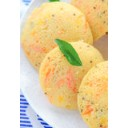idly: (39, 42, 105, 109), (26, 1, 91, 69), (78, 58, 108, 126)
